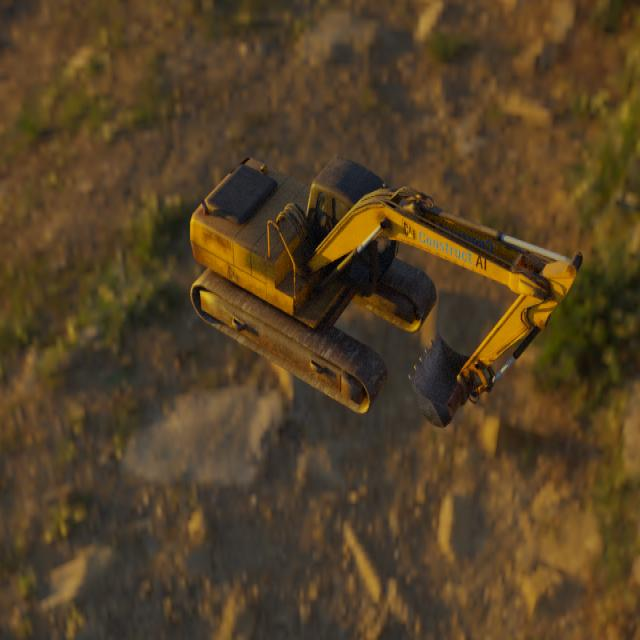excavator: (189, 155, 583, 428)
